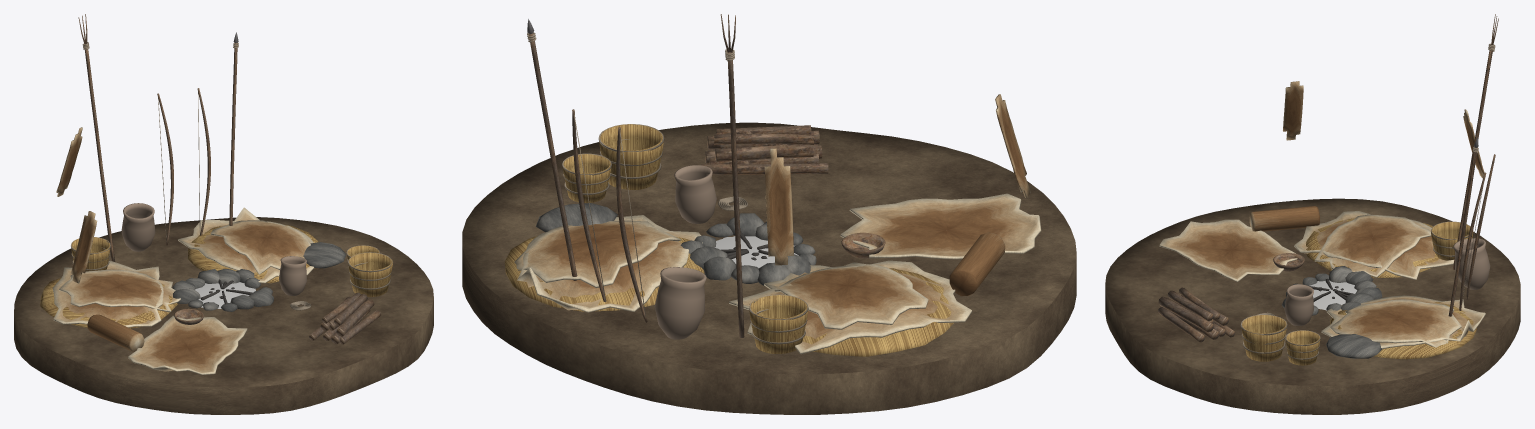
The model's file is Hut 4000 Interior.fbx.
The picture shows the model from 3 angles, left to right: view 1: azimuth 30°, elevation 25°; view 2: azimuth 150°, elevation 25°; view 3: azimuth 270°, elevation 25°; orthographic projection. The views are drawn at different scales.
Visible parts, largest first — view 1: Hut 4000 Interior; view 2: Hut 4000 Interior; view 3: Hut 4000 Interior.
Boxes of the visible parts, x1,y1,x2,y2 form: Hut 4000 Interior: (14, 14, 433, 414); Hut 4000 Interior: (462, 14, 1076, 414); Hut 4000 Interior: (1105, 14, 1520, 414).
Bounding box in the file's own units: 4.17 × 2.87 × 3.91.
